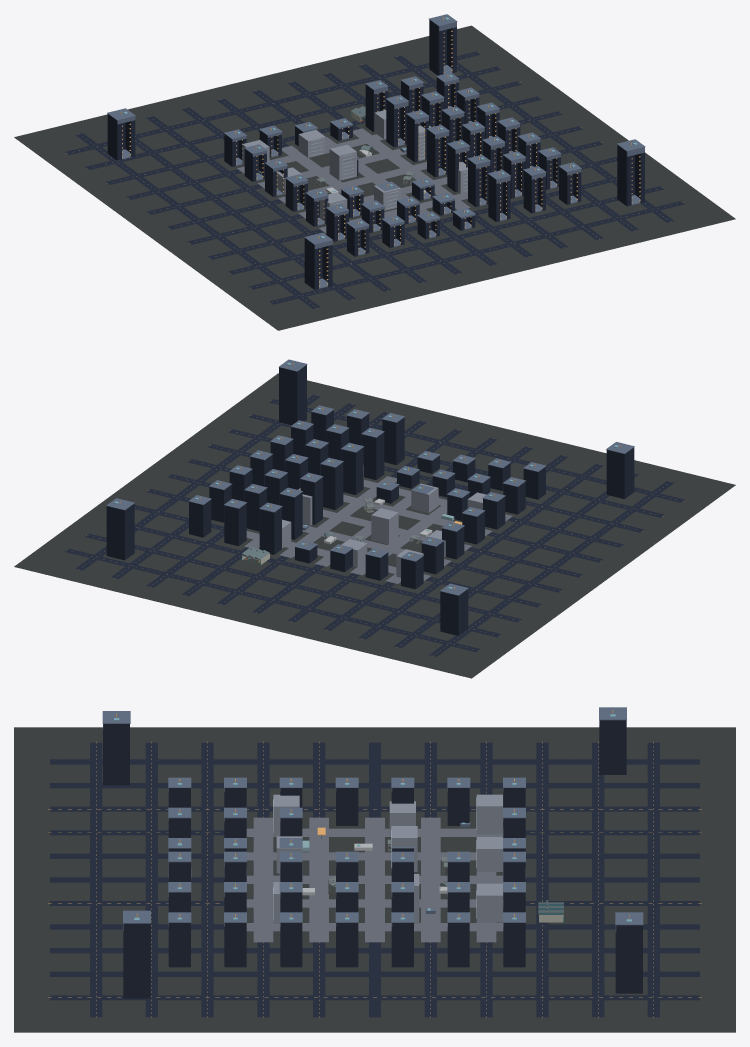
The picture shows the model from 3 angles, top to bottom: view 1: azimuth 30°, elevation 25°; view 2: azimuth 150°, elevation 25°; view 3: azimuth 270°, elevation 25°; orthographic projection. The views are drawn at different scales.
Parts seen in each view (by area): view 1: Runtime FPV textured terrain nightgrid, Runtime nightgrid_1_0_0, Runtime nightgrid_2_0_0, Runtime #282d39, Runtime #485163, Runtime nightgrid_4_0_0, Runtime nightgrid_0_0_0; view 2: Runtime FPV textured terrain nightgrid, Runtime nightgrid_1_0_0, Runtime nightgrid_2_0_0, Runtime #282d39, Runtime #485163, Runtime nightgrid_0_0_0; view 3: Runtime FPV textured terrain nightgrid, Runtime nightgrid_1_0_0, Runtime #282d39, Runtime nightgrid_2_0_0, Runtime #485163, Runtime nightgrid_4_0_0, Runtime nightgrid_3_0_0.
Part boxes in pixels (x1,y1,x2,y2): Runtime FPV textured terrain nightgrid: [14, 25, 735, 330]; Runtime nightgrid_1_0_0: [65, 20, 684, 309]; Runtime nightgrid_2_0_0: [107, 14, 645, 288]; Runtime #282d39: [237, 128, 470, 233]; Runtime #485163: [242, 110, 467, 220]; Runtime nightgrid_4_0_0: [67, 17, 670, 303]; Runtime nightgrid_0_0_0: [14, 137, 735, 330]; Runtime FPV textured terrain nightgrid: [14, 373, 735, 678]; Runtime nightgrid_1_0_0: [65, 365, 684, 656]; Runtime nightgrid_2_0_0: [106, 359, 634, 595]; Runtime #282d39: [244, 476, 512, 583]; Runtime #485163: [282, 465, 486, 577]; Runtime nightgrid_0_0_0: [14, 485, 735, 678]; Runtime FPV textured terrain nightgrid: [14, 727, 735, 1032]; Runtime nightgrid_1_0_0: [50, 720, 699, 1017]; Runtime #282d39: [246, 817, 503, 942]; Runtime nightgrid_2_0_0: [102, 707, 643, 931]; Runtime #485163: [273, 794, 502, 923]; Runtime nightgrid_4_0_0: [48, 710, 701, 1017]; Runtime nightgrid_3_0_0: [114, 714, 631, 922].
Bounding box in the file's own units: 880 × 107 × 880.
Materials: 26 (8 with a texture image).
